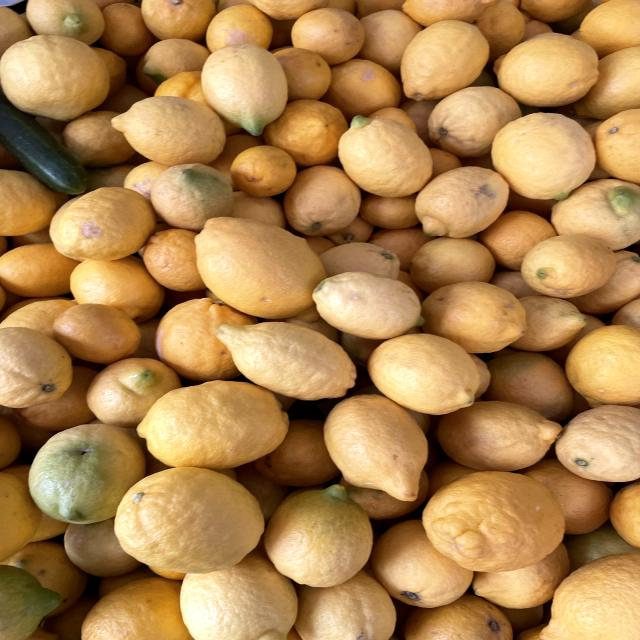lemon: (101, 461, 267, 573), (185, 206, 340, 323), (313, 387, 447, 508), (259, 477, 389, 592), (216, 313, 364, 404), (420, 396, 577, 471), (195, 38, 302, 141), (360, 327, 483, 415), (331, 105, 441, 201), (389, 16, 507, 103), (97, 93, 235, 164), (314, 260, 430, 341), (409, 162, 519, 246), (523, 232, 621, 298)
